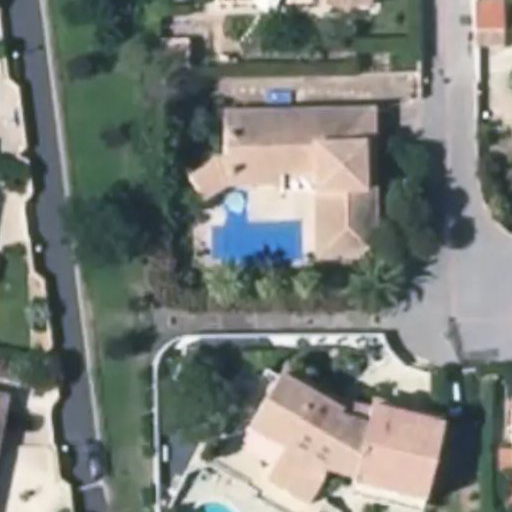pool: (212, 223, 299, 261)
